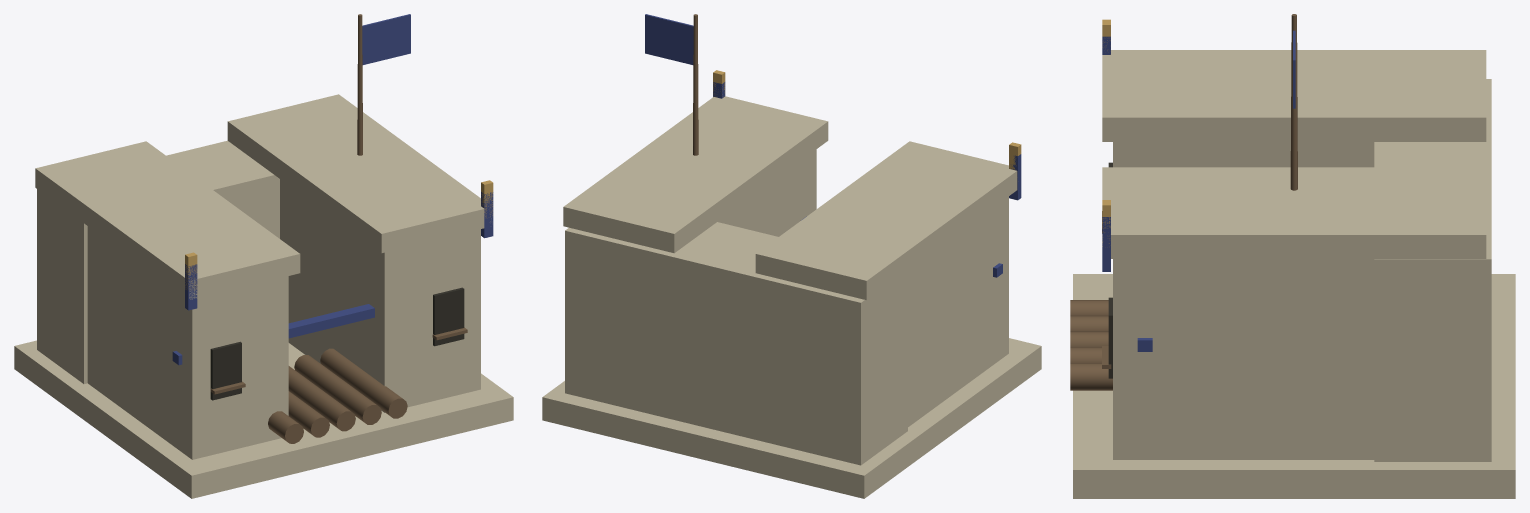
Rendered from b-siege-persian.glb.
3 renders of one model, left to right at view 1: azimuth 30°, elevation 25°; view 2: azimuth 150°, elevation 25°; view 3: azimuth 270°, elevation 25°, orthographic. The views are drawn at different scales.
Visible parts, largest first — view 1: Structure, era1, era3, era2; view 2: Structure; view 3: Structure.
Part boxes in pixels (x1,y1,x2,y2): Structure: [14, 14, 513, 498]; era1: [185, 201, 493, 310]; era3: [185, 180, 493, 290]; era2: [185, 192, 493, 300]; Structure: [542, 14, 1041, 498]; Structure: [1070, 14, 1515, 498].
Bounding box in the file's own units: 4.35 × 4.6 × 4.17.
